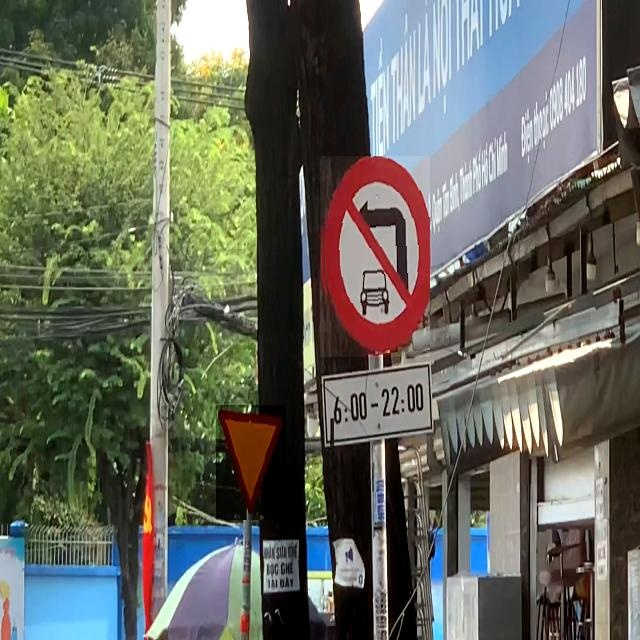bien_cam: (320, 156, 430, 357), (216, 405, 286, 520)
